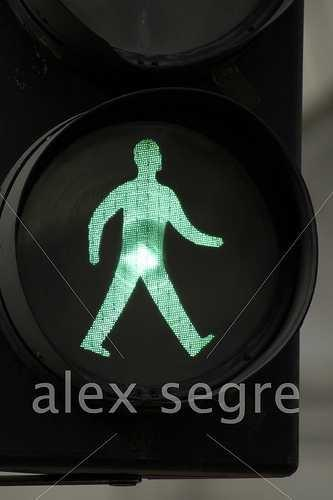green: (36, 103, 306, 383)
